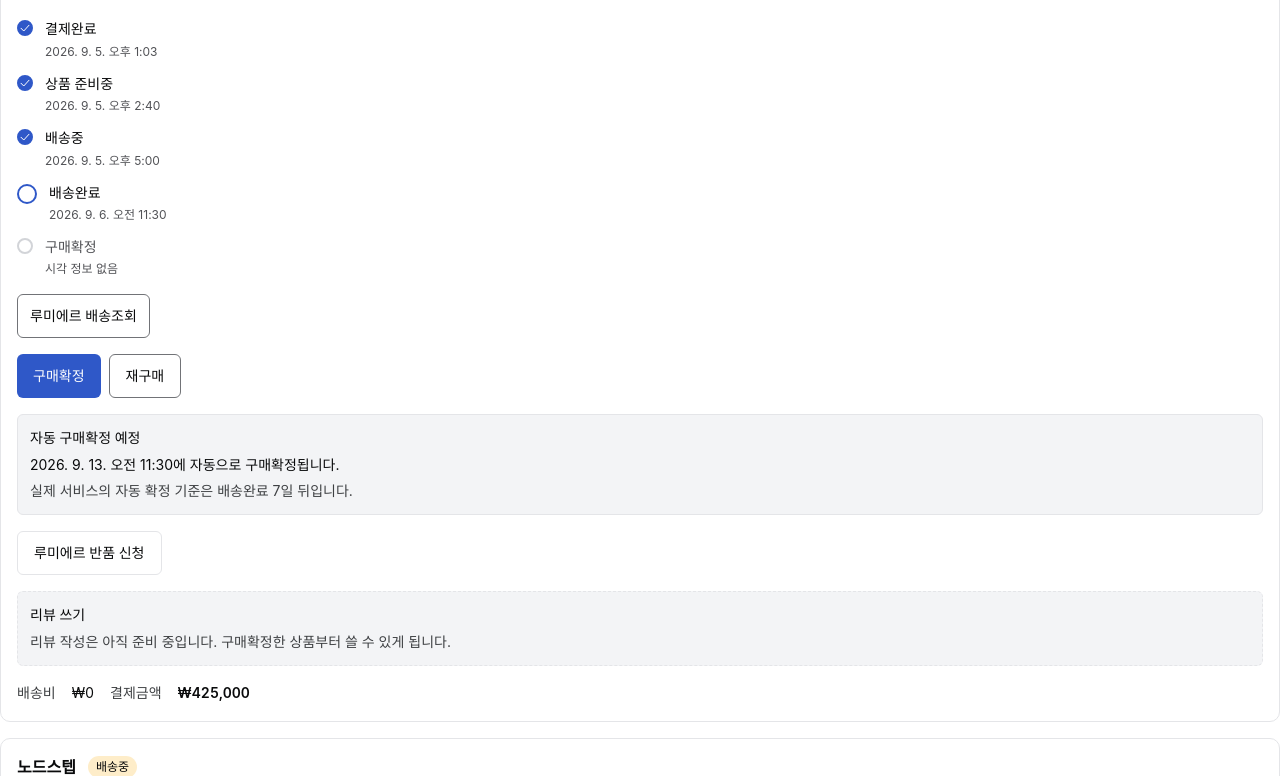
Test: 구매확정 (F3) › 전이가 실패하면 사람에게 말한다 (U6)
The width and height of the screenshot is (1280, 776).
(page scrolled)
Click the button "구매확정". click: (59, 376)
box: [17,354,100,398]
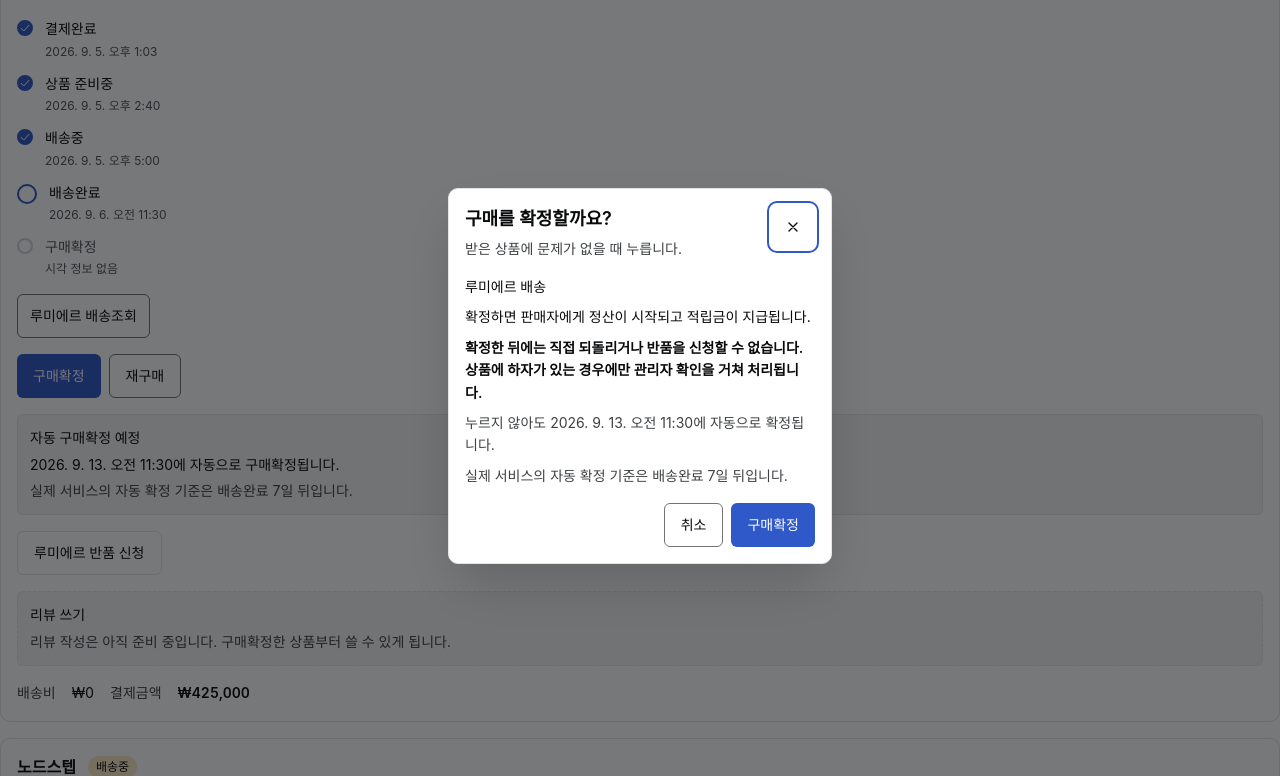
Click the button "구매확정". click: (773, 525)
box: [732,503,815,547]
(page scrolled)
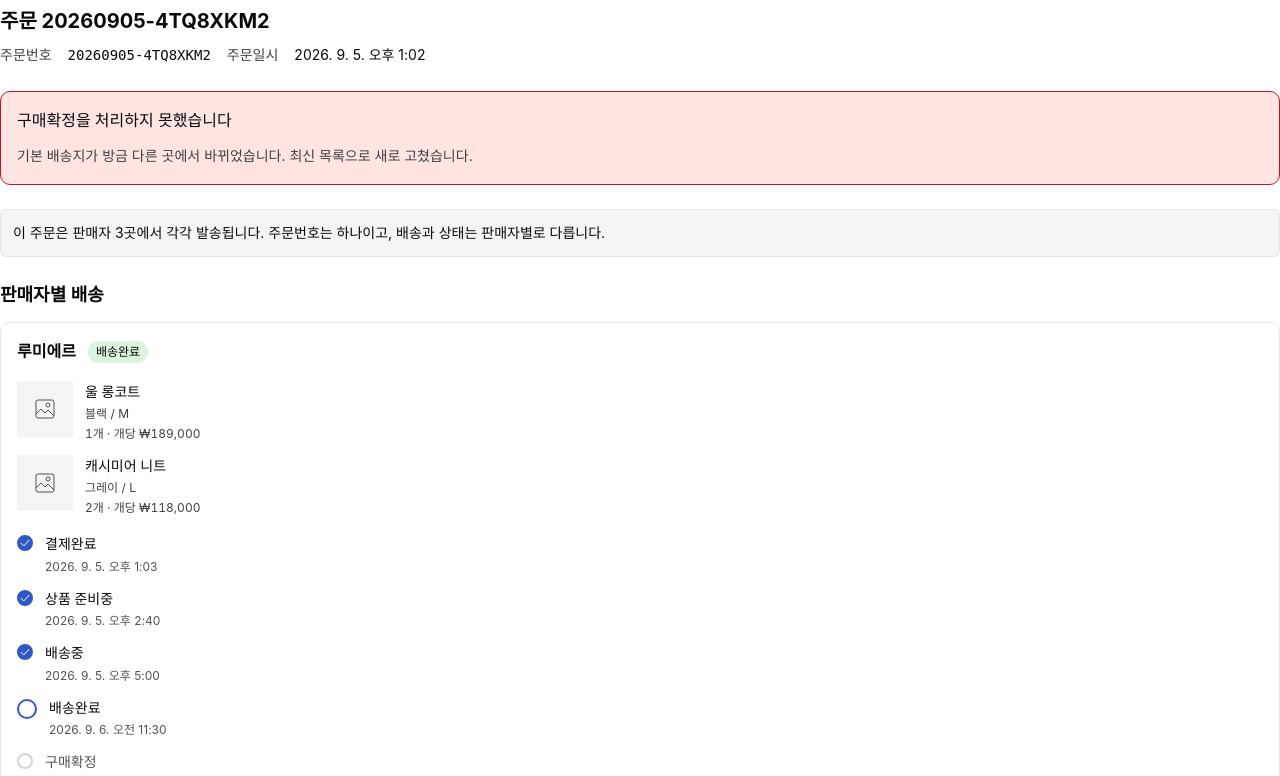
Expected: the text "구매확정을 처리하지 못했습니다" is shown, [17,110,232,130]
